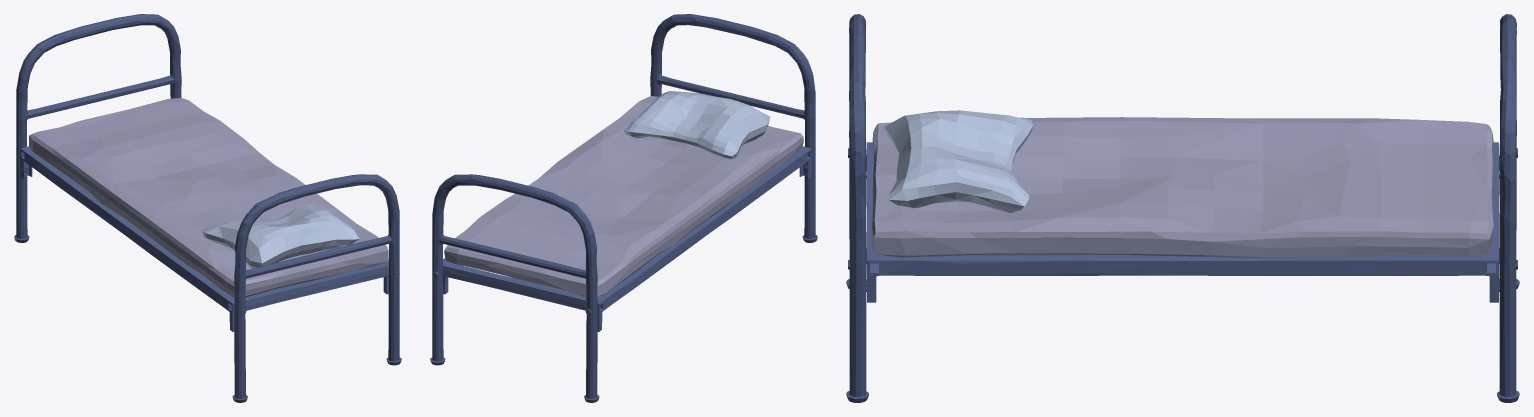
Rendered from bed.fbx.
3 renders of one model, left to right at view 1: azimuth 30°, elevation 25°; view 2: azimuth 150°, elevation 25°; view 3: azimuth 270°, elevation 25°, orthographic. The views are drawn at different scales.
Parts seen in each view (by area): view 1: mattress, bed-frame, pillow; view 2: mattress, bed-frame, pillow; view 3: mattress, bed-frame, pillow.
Boxes of the visible parts, <box> form: mattress: <box>29,98,388,297</box>; bed-frame: <box>14,14,401,402</box>; pillow: <box>201,204,359,268</box>; mattress: <box>444,95,803,297</box>; bed-frame: <box>430,14,817,402</box>; pillow: <box>623,91,770,159</box>; mattress: <box>872,117,1494,257</box>; bed-frame: <box>846,14,1519,402</box>; pillow: <box>884,110,1033,213</box>.
Size of the model in its own units: 1.02 by 2.4 by 1.17.
Materials: 1 (1 with a texture image).
